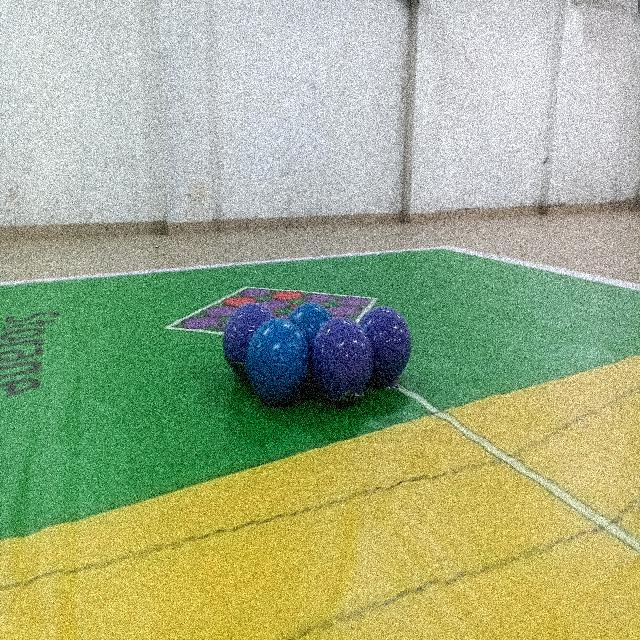blue_ball: (245, 320, 309, 401), (290, 303, 335, 355)
purple_ball: (312, 317, 373, 399), (365, 309, 411, 379), (224, 306, 270, 374)
